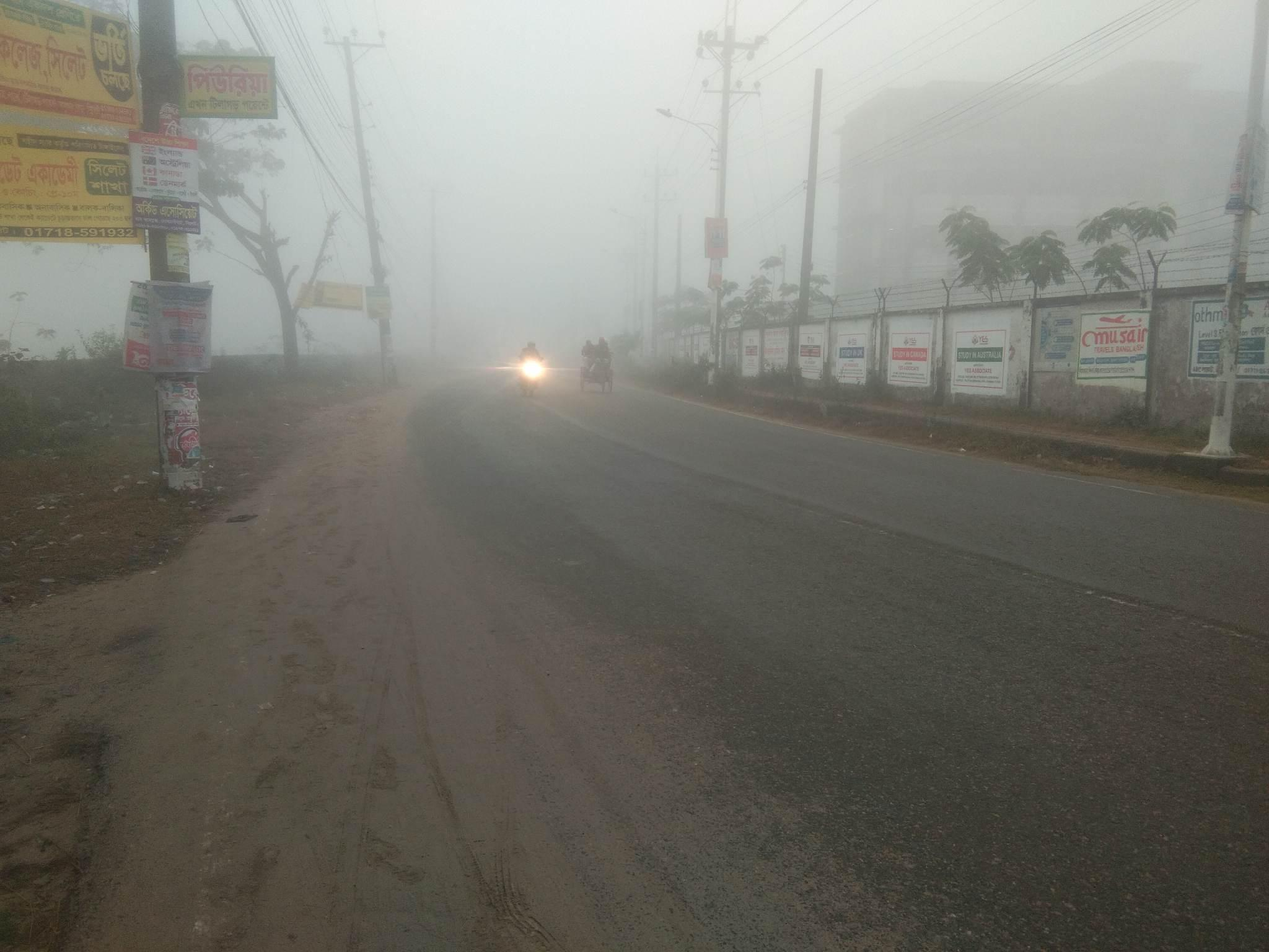Bike: (508, 337, 552, 402)
Car: (574, 333, 623, 390)
